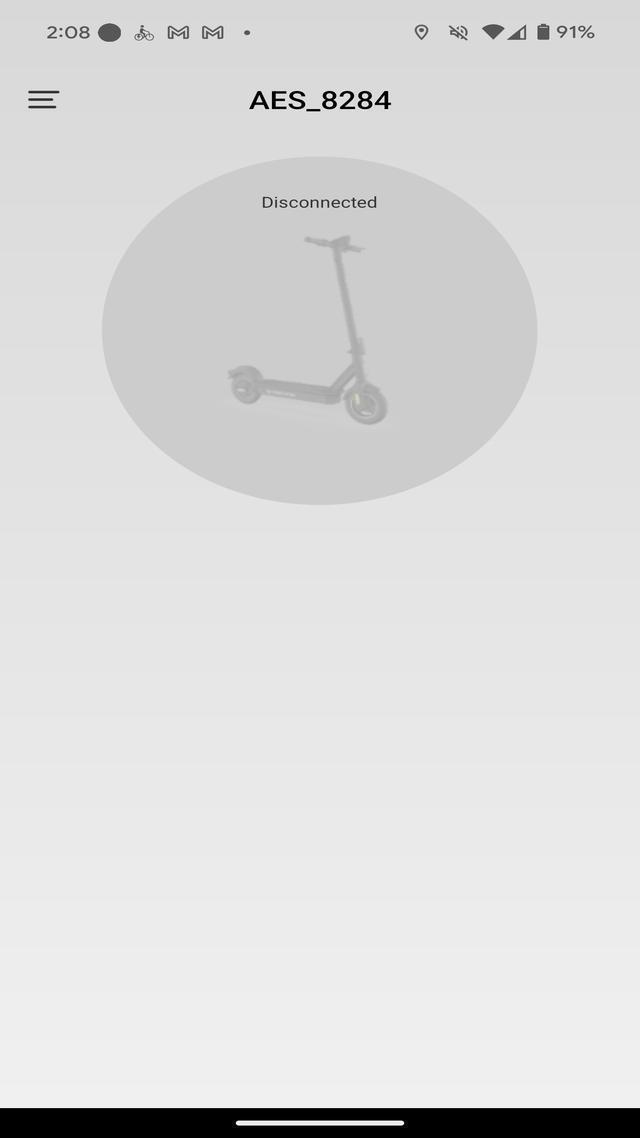Icon: (26, 86, 62, 116), (198, 21, 228, 45), (163, 22, 193, 44), (96, 22, 125, 44), (444, 20, 469, 44), (133, 21, 158, 44), (481, 21, 507, 40), (506, 23, 530, 42), (534, 22, 552, 42), (414, 24, 430, 46), (240, 26, 254, 40)
Image: (206, 228, 432, 439)
Text: (240, 82, 398, 120), (253, 188, 388, 216), (42, 21, 94, 42), (558, 24, 600, 42)
